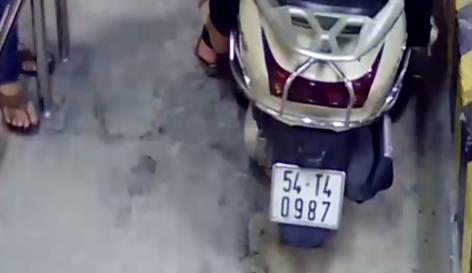lisence: (270, 162, 346, 231)
